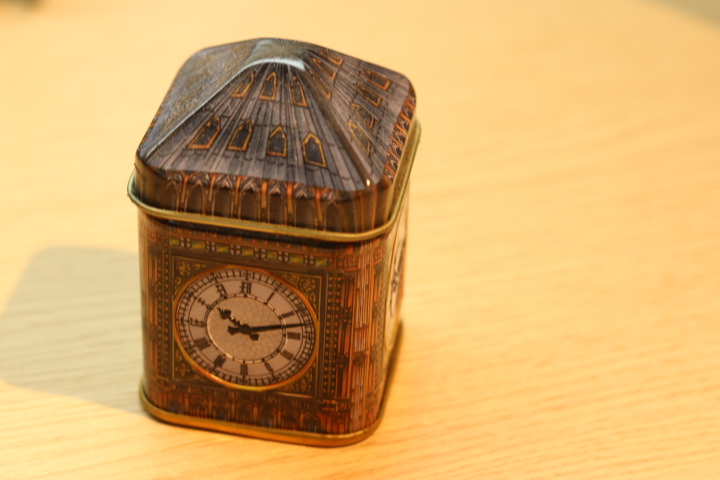Big Ben: (113, 25, 429, 462)
